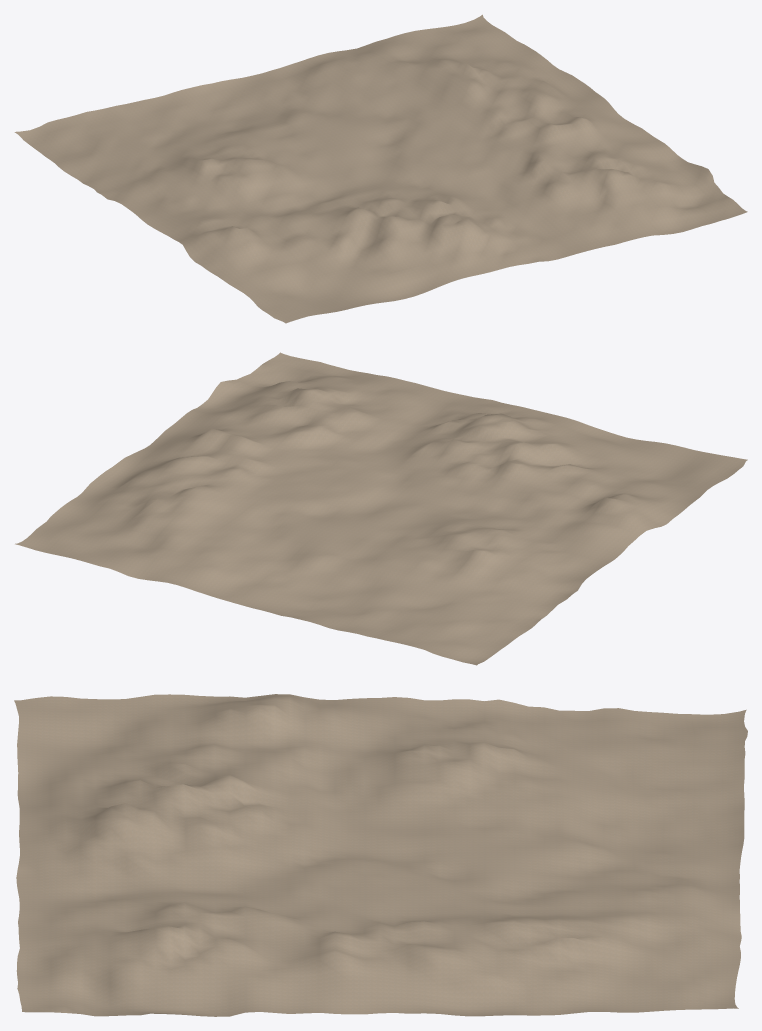
The model's file is M_shadan01.FBX.
The picture shows the model from 3 angles, top to bottom: view 1: azimuth 30°, elevation 25°; view 2: azimuth 150°, elevation 25°; view 3: azimuth 270°, elevation 25°; orthographic projection. The views are drawn at different scales.
Visible parts, largest first — view 1: M_shadan01; view 2: M_shadan01; view 3: M_shadan01.
Part boxes in pixels (x1,y1,x2,y2): M_shadan01: (14, 14, 747, 323); M_shadan01: (15, 352, 747, 665); M_shadan01: (14, 694, 747, 1016).
Size of the model in its own units: 177 by 10.83 by 173.
